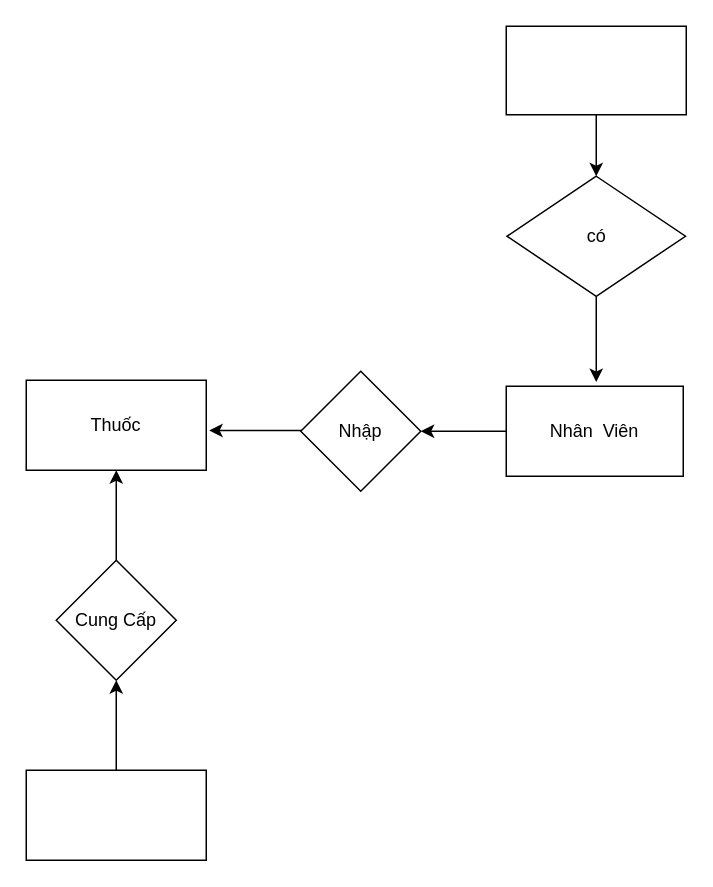
Image size: 713x887. Some labels were removed from this diagram. Each missing label, with the centre of its shape:
"Cửa Hàng" belongs at point 595,70.
"Nhà Cung Cấp" belongs at point 115,814.
